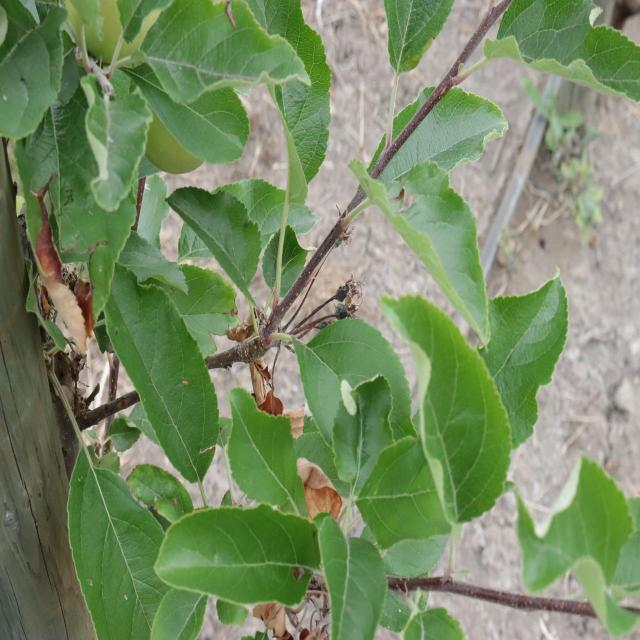-FireBlight-: (40, 207, 126, 376), (288, 459, 348, 531), (247, 342, 286, 419)
